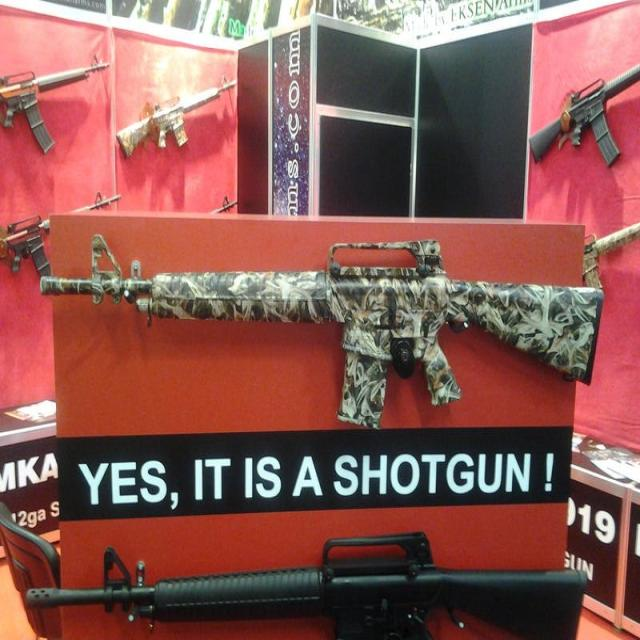firearm: (39, 240, 604, 425), (25, 530, 589, 640), (530, 66, 640, 168), (0, 56, 110, 155), (0, 189, 121, 277), (119, 76, 236, 160)
